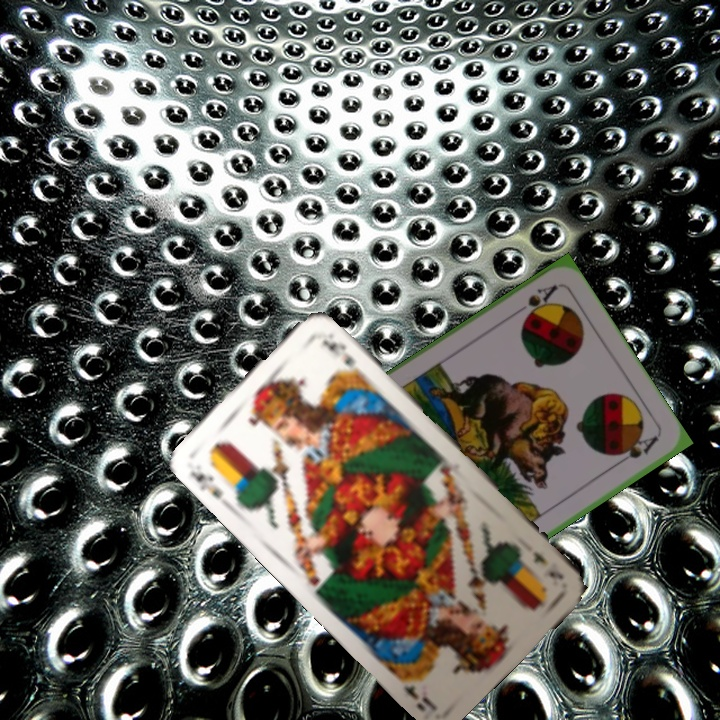EK: (185, 466, 226, 502), (528, 546, 566, 583)
SA: (519, 280, 561, 322)
